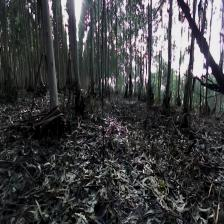trunk: (41, 3, 59, 108), (66, 5, 82, 103), (197, 31, 224, 85), (163, 9, 172, 107), (183, 40, 195, 112)
